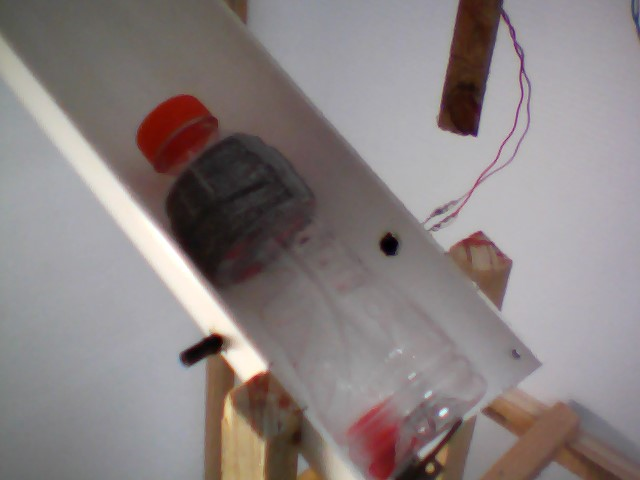plastico: (131, 85, 496, 480)
